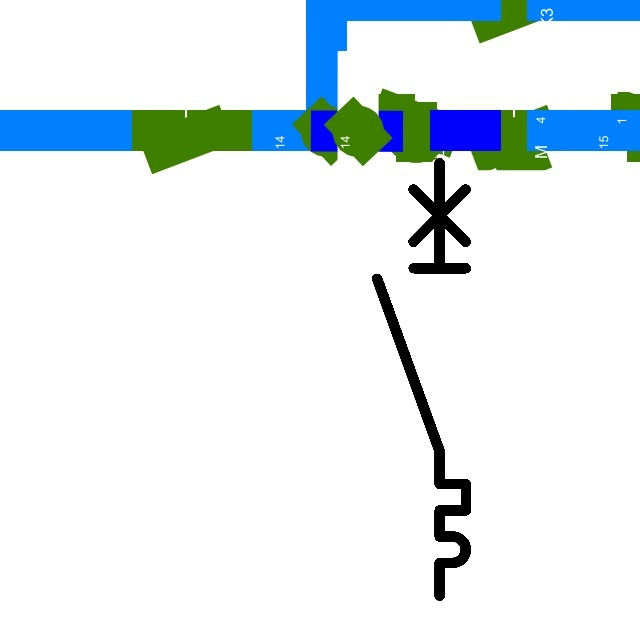interruptor_termomagnetico: (366, 152, 477, 607)
